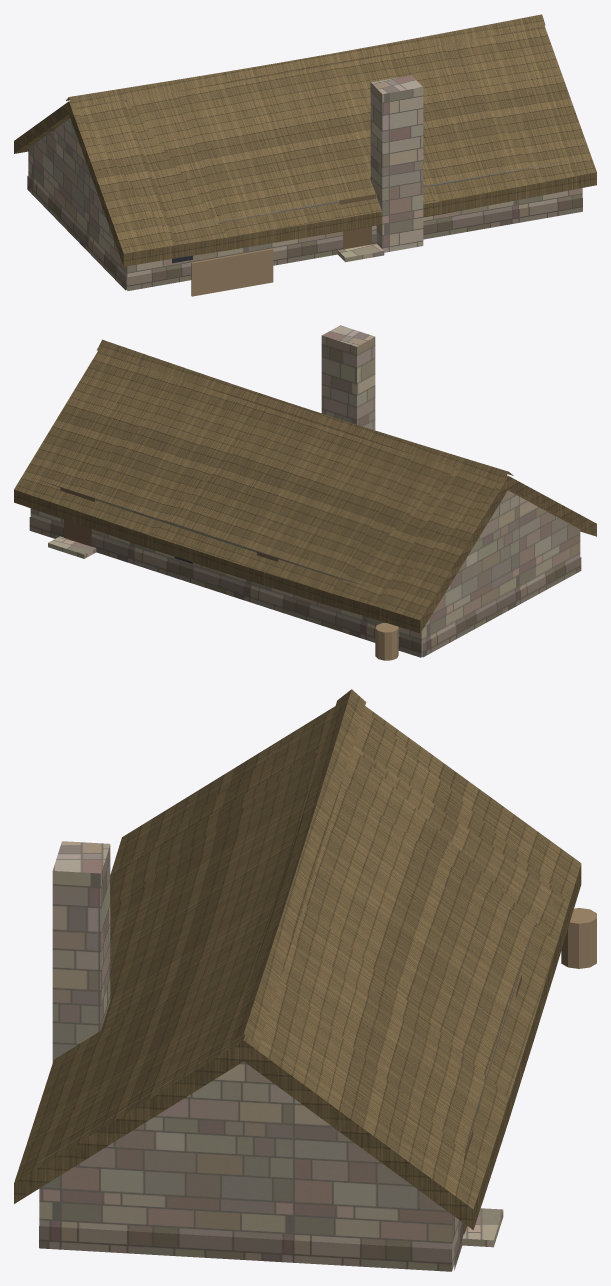
The picture shows the model from 3 angles, top to bottom: view 1: azimuth 30°, elevation 25°; view 2: azimuth 150°, elevation 25°; view 3: azimuth 270°, elevation 25°; orthographic projection. The views are drawn at different scales.
Parts seen in each view (by area): view 1: b001084_thatch, b001084_wall, b001084_base, b001084_wood, b001084_oak; view 2: b001084_thatch, b001084_wall, b001084_base, b001084_wood, b001084_oak; view 3: b001084_thatch, b001084_wall, b001084_base, b001084_wood.
Part boxes in pixels (box(x1,y1,x2,y2)): b001084_thatch: box(14, 14, 596, 266); b001084_wall: box(28, 75, 582, 290); b001084_base: box(27, 176, 582, 290); b001084_wood: box(191, 248, 273, 296); b001084_oak: box(339, 194, 375, 249); b001084_thatch: box(14, 339, 596, 633); b001084_wall: box(30, 325, 580, 657); b001084_base: box(29, 517, 581, 657); b001084_wood: box(375, 623, 398, 660); b001084_oak: box(60, 487, 277, 561); b001084_thatch: box(14, 689, 581, 1230); b001084_wall: box(39, 841, 541, 1270); b001084_base: box(39, 1222, 464, 1271); b001084_wood: box(561, 908, 596, 968).
Size of the model in its own units: 14.93 by 4.79 by 9.93.
6 materials, 3 textured.
